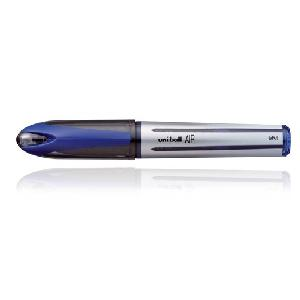pen: (6, 118, 294, 163)
